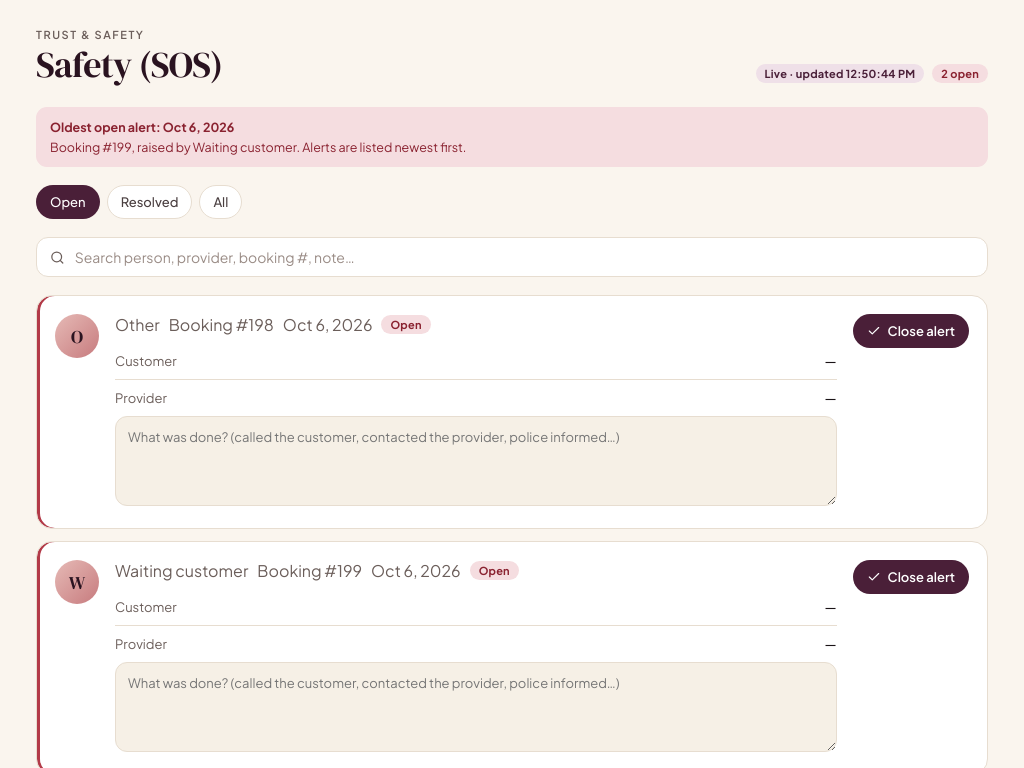
Test case: <Safety> - the oldest-open-alert banner (R6-03) › a search with no match says 'No matches' AND still warns about the unrelated oldest open alert
Expected: the text "raised by Waiting customer" is shown, [50,139,466,155]
Type "nobody-by-this-name" into the field with placeholder "Search person, provider, booking #, note…" at (523, 257), box [73,247,974,267]
Wait 400 ms
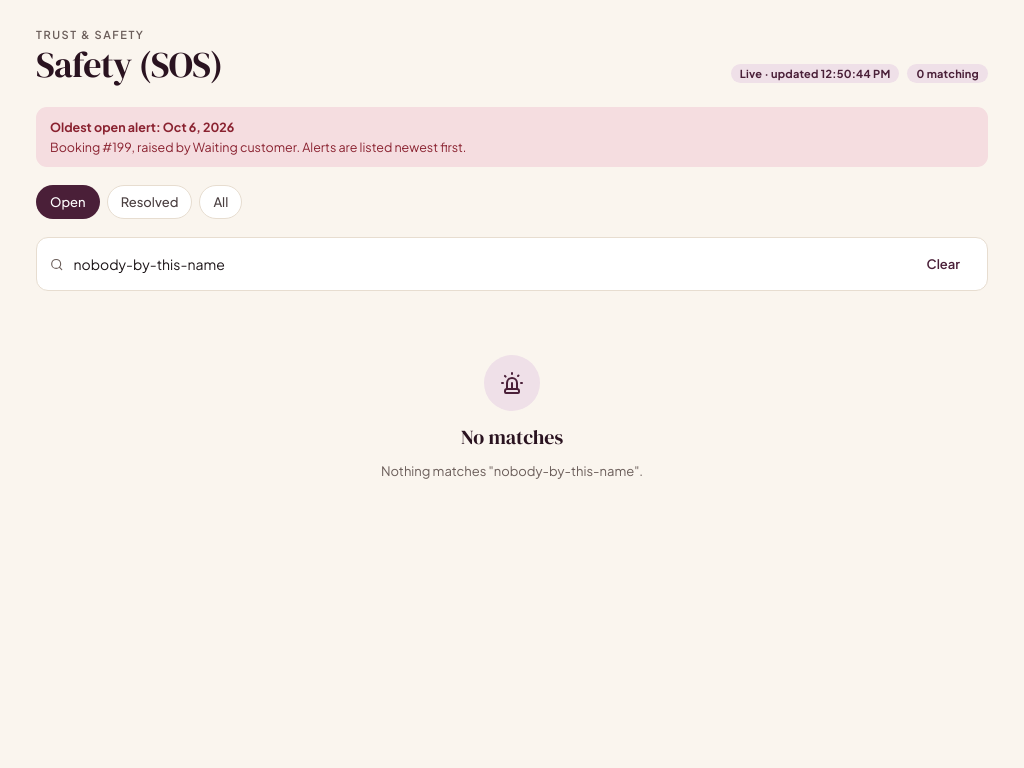
Expected: the text "Oldest open alert: Oct 6, 2026" is shown, [50,119,234,135]
Now the text "No matches" is shown, box [461,423,563,451]
Now the text "0 matching" is shown, box [908,64,988,83]
